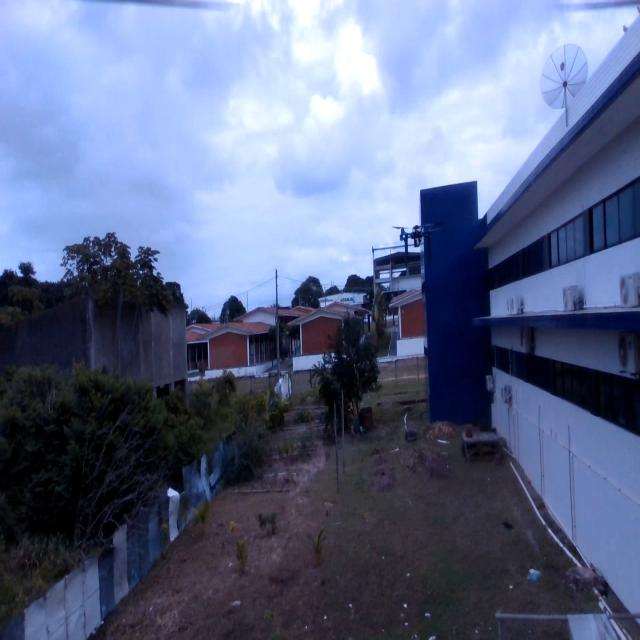-uav-: (383, 209, 449, 278)
